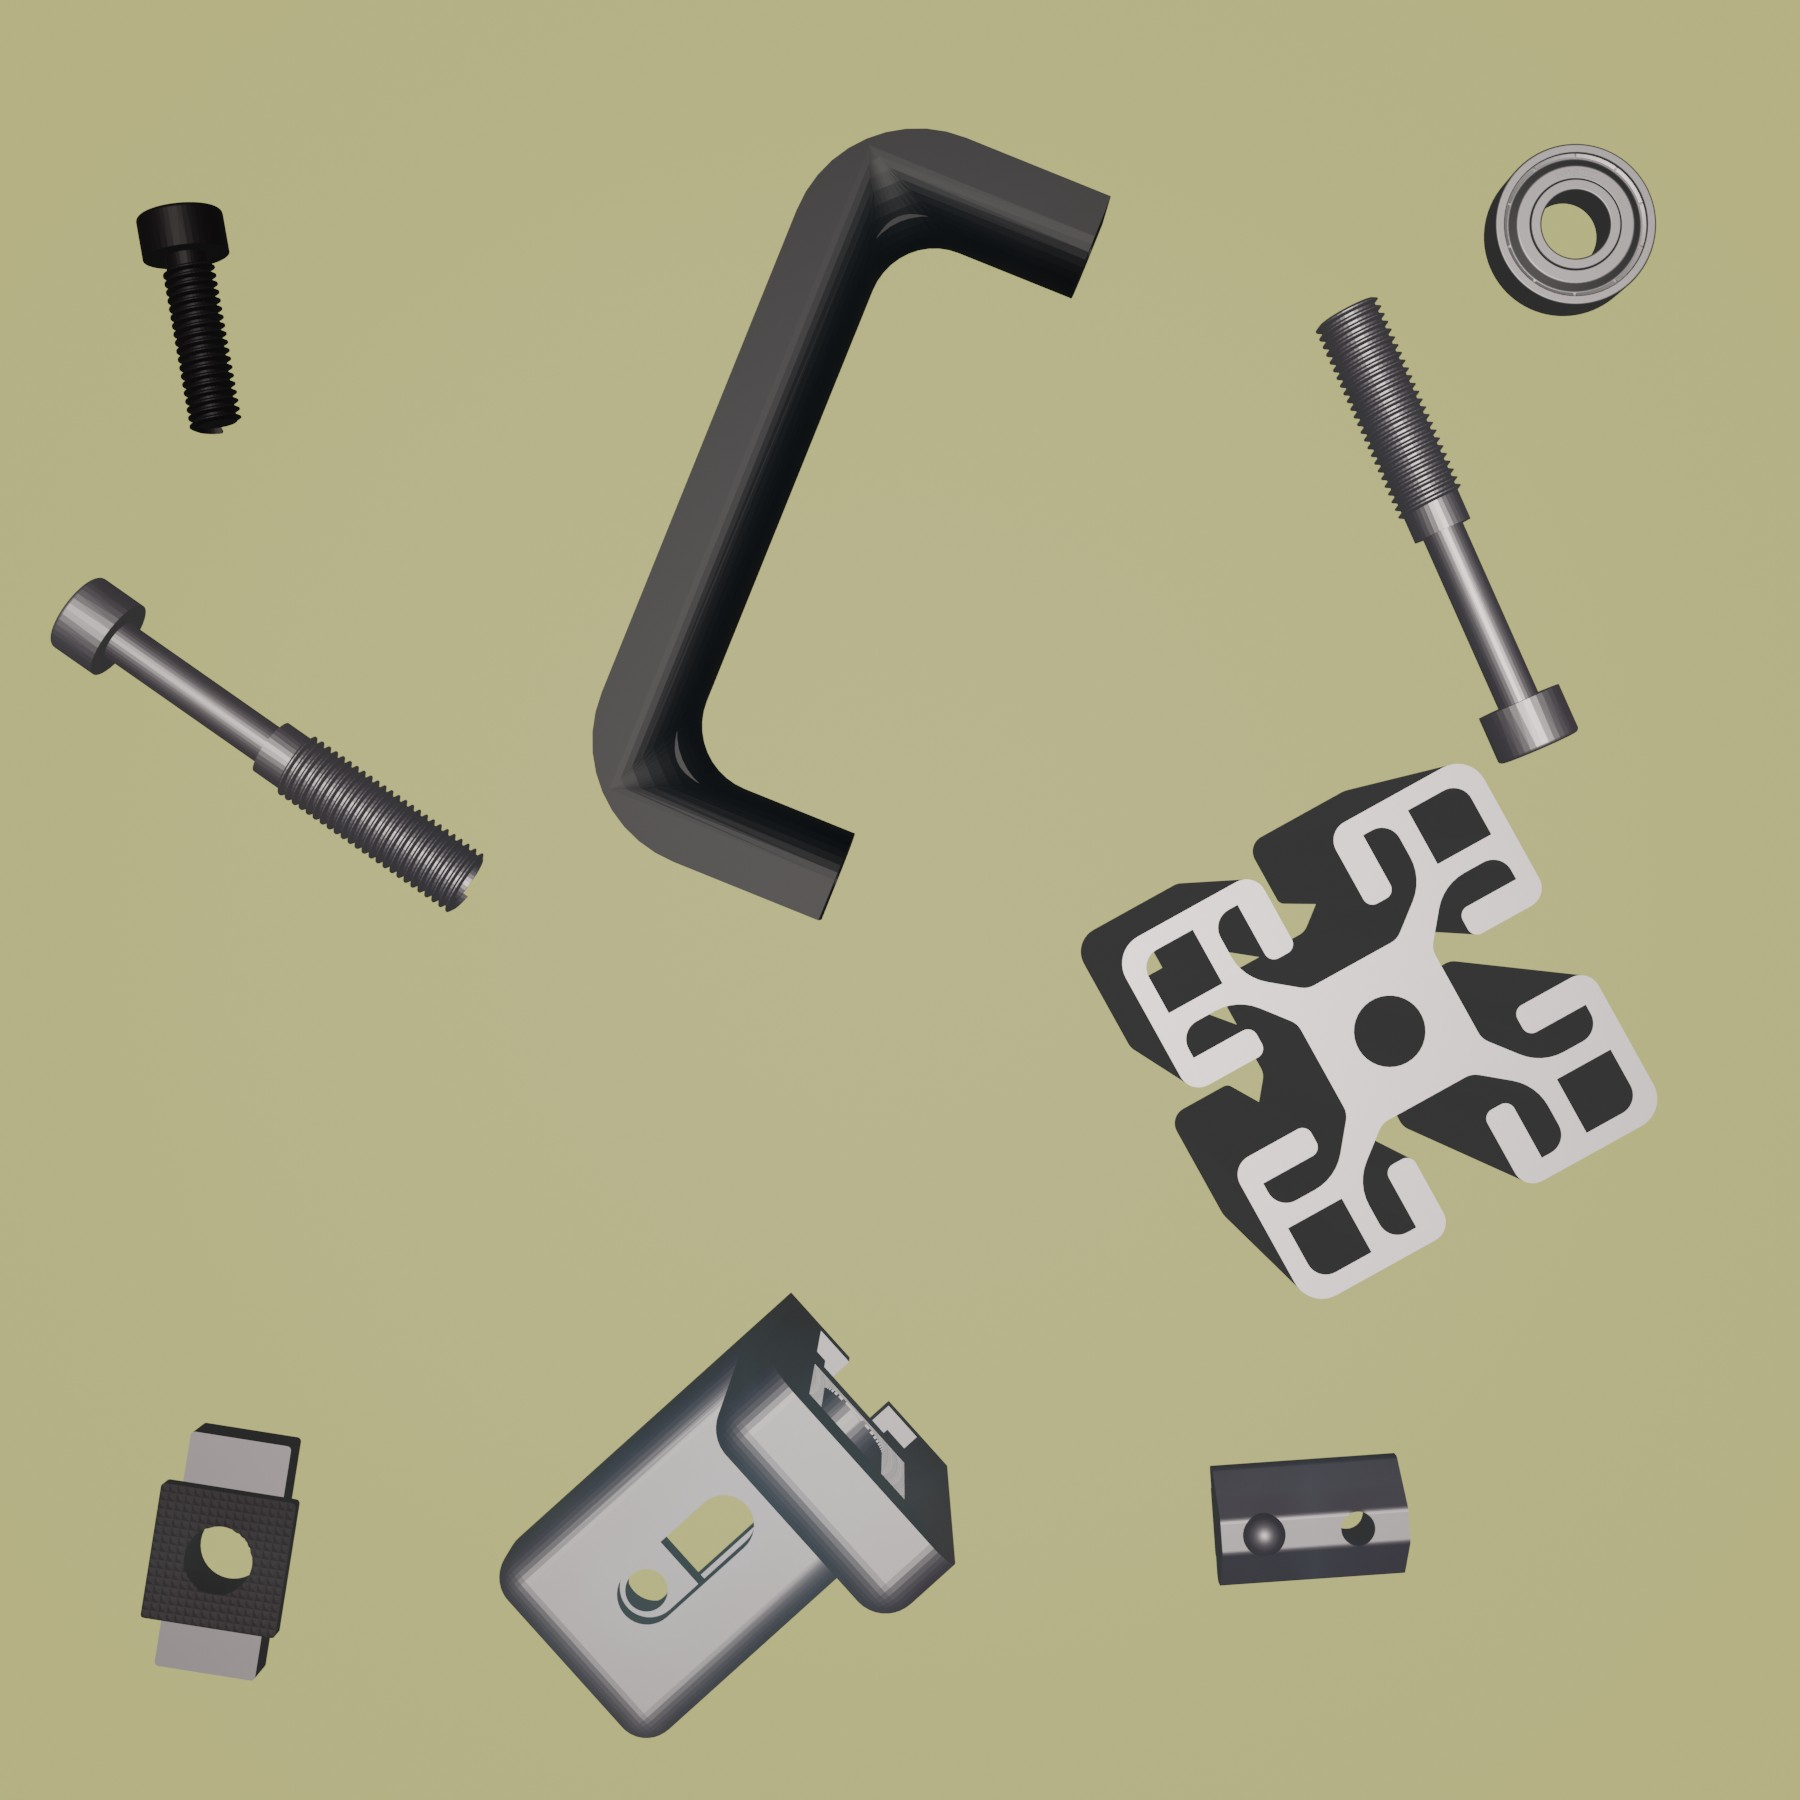Aluminium Extension: (1078, 762, 1662, 1304)
Ball Bearing: (1480, 142, 1658, 318)
Multiwinkel: (498, 1289, 958, 1742)
Pull Handle: (590, 125, 1113, 921)
Shoulder Socket Head Cap Screw: (48, 575, 485, 912), (1315, 297, 1577, 766)
Socket Head Cap Screw: (134, 199, 242, 438)
T Nut Square: (138, 1423, 307, 1681)
T Spring Nut: (1205, 1451, 1413, 1587)
